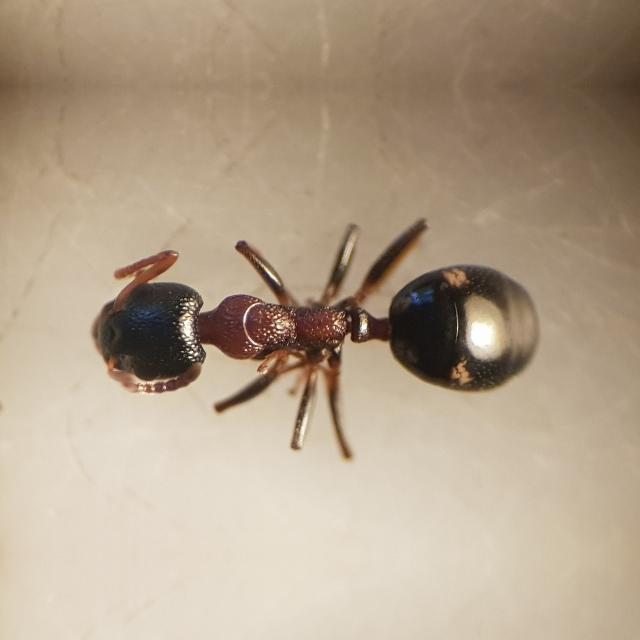Dolichoderus: (21, 205, 556, 439)
